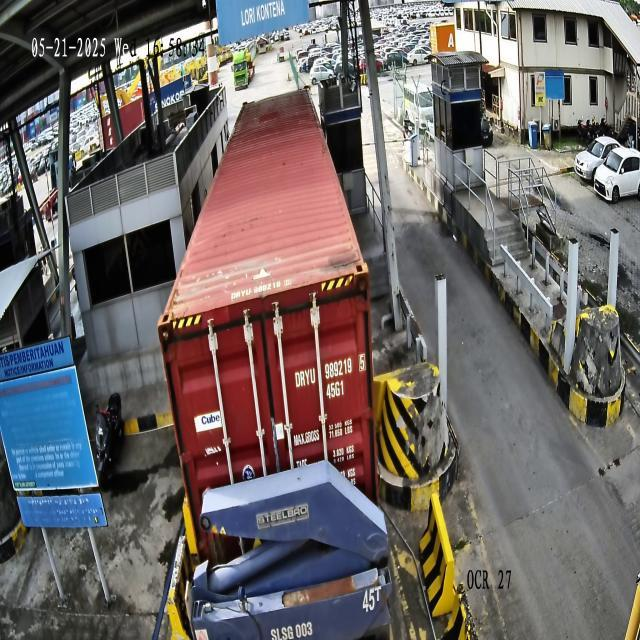ISO: (325, 378, 348, 404)
container_number: (295, 346, 367, 390)
